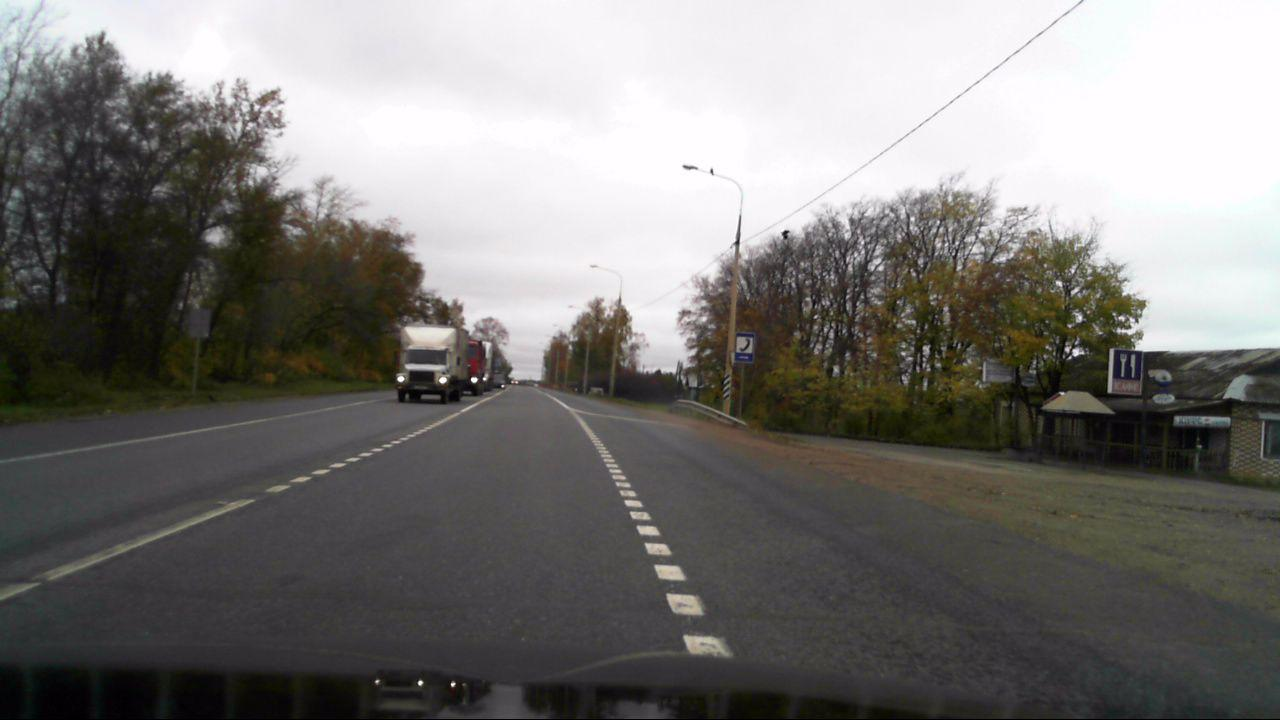7_6: (734, 332, 754, 364)
